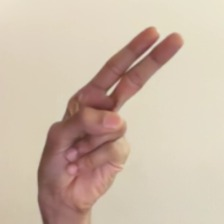H: (27, 16, 195, 223)
